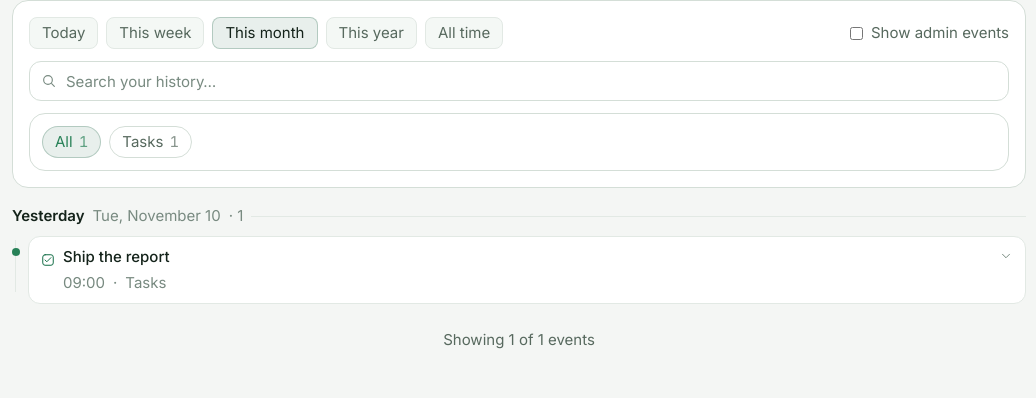
Test: LifeTimeline — opening an event › expands a row to show its detail instead of navigating immediately
This screenshot has width=1036, height=398.
Expected: the text "The Q3 numbers" is not shown
Click the button "Ship the report 09:00 · Tasks" at point(116, 256), box [41,245,1013,295]
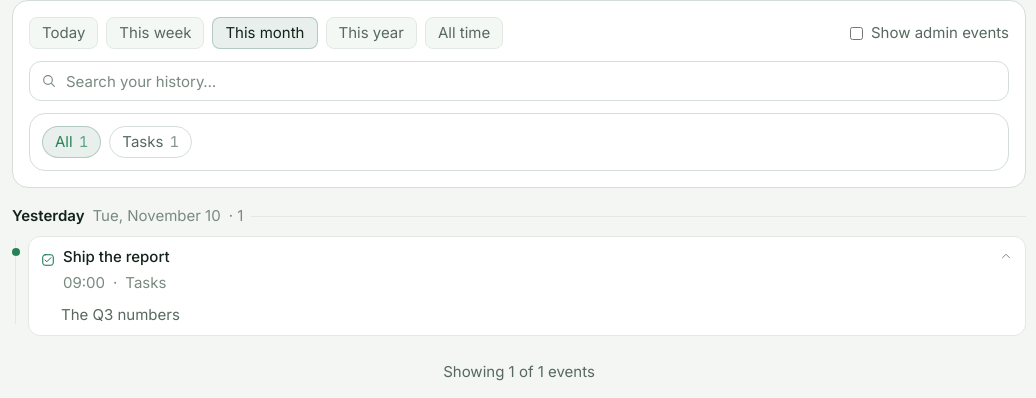
Now the text "The Q3 numbers" is shown, box [61,305,180,324]
